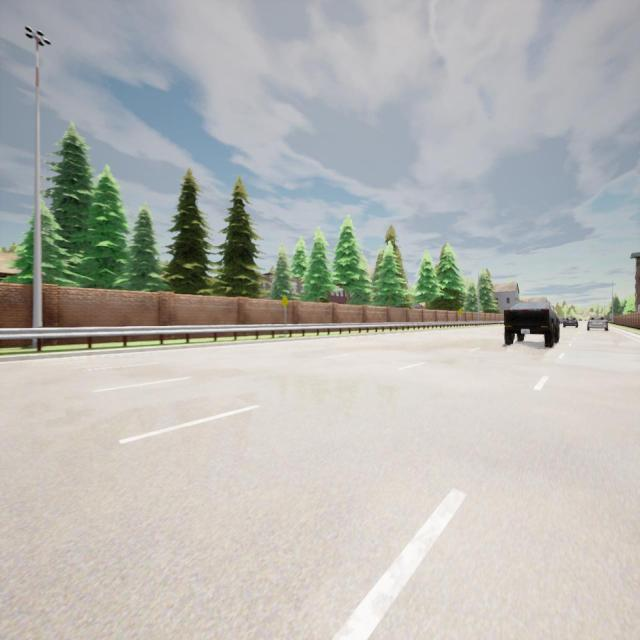Traffic_Signs: (280, 295, 289, 308), (457, 309, 463, 315)
Vehicle: (504, 302, 560, 346), (587, 314, 609, 331), (564, 315, 578, 328), (558, 317, 564, 323)
